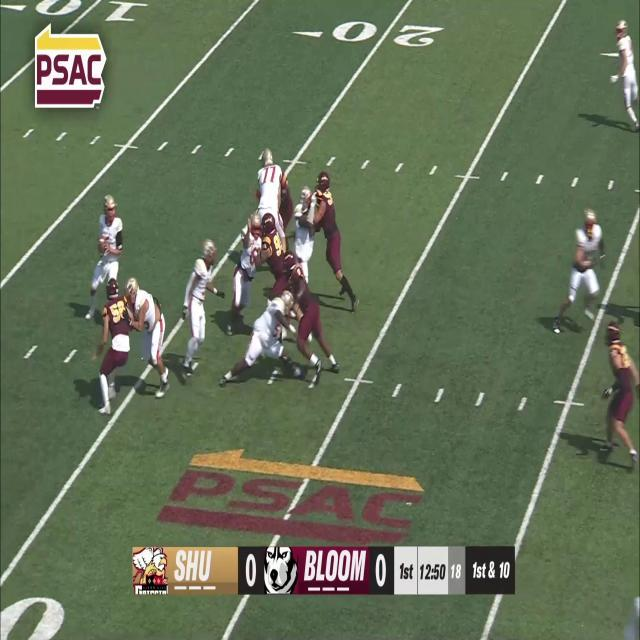football: (96, 235, 107, 258)
